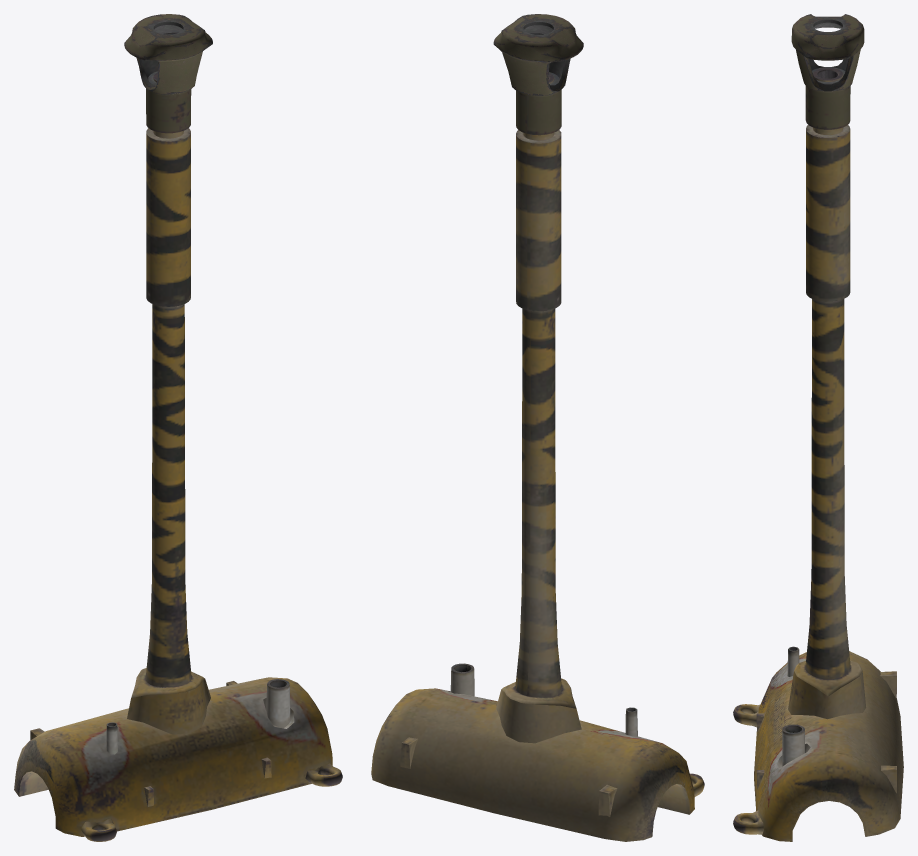
Rendered from Gun_01.glb.
3 views of the same model, side by side, from view 1: azimuth 30°, elevation 25°; view 2: azimuth 150°, elevation 25°; view 3: azimuth 270°, elevation 25° (orthographic). The views are drawn at different scales.
Visible parts, largest first — view 1: set_0_group_0; view 2: set_0_group_0; view 3: set_0_group_0.
Part boxes in pixels (x1,y1,x2,y2): set_0_group_0: [14, 14, 342, 841]; set_0_group_0: [371, 14, 704, 841]; set_0_group_0: [733, 14, 903, 841].
Size of the model in its own units: 1.39 by 3.69 by 0.7627.
1 material, 1 textured.
